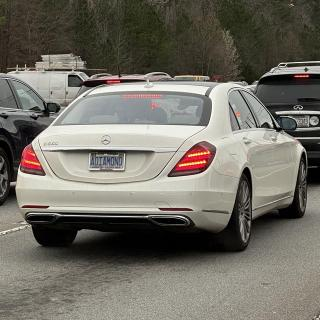license: (89, 153, 127, 172)
